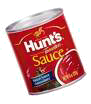grozi_80: (4, 7, 87, 95)
